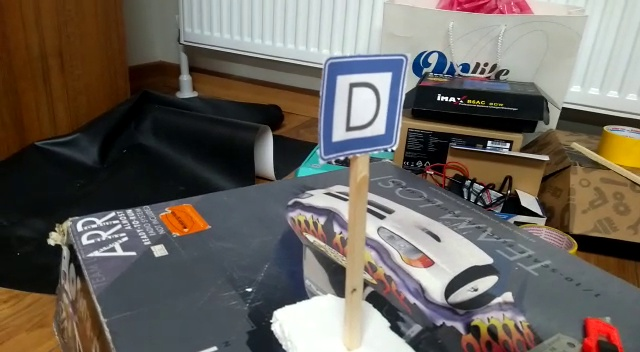durak: (322, 62, 394, 142)
